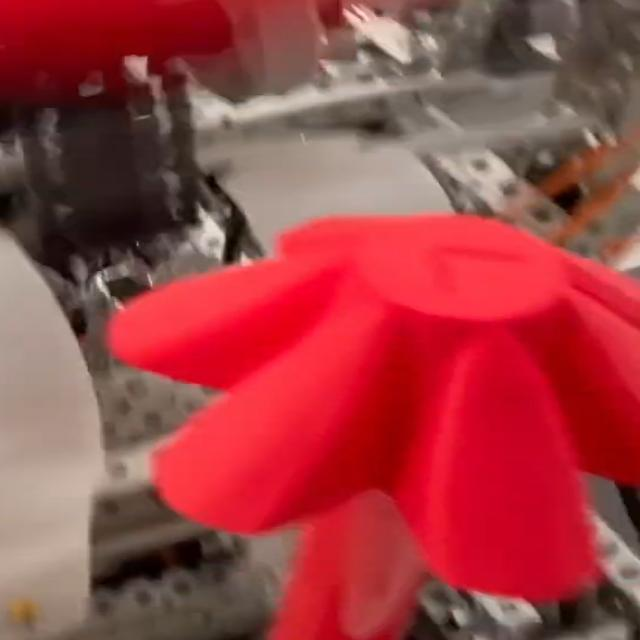zred-Stake-Head: (113, 216, 640, 599)
